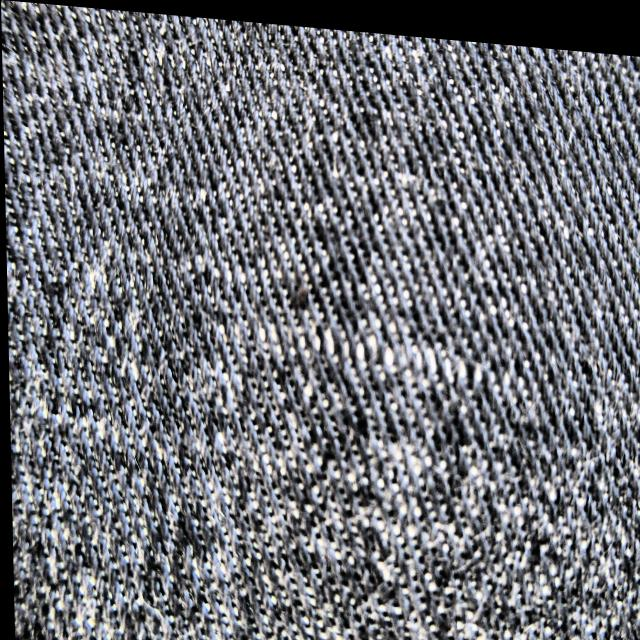Hole: (228, 280, 558, 435)
